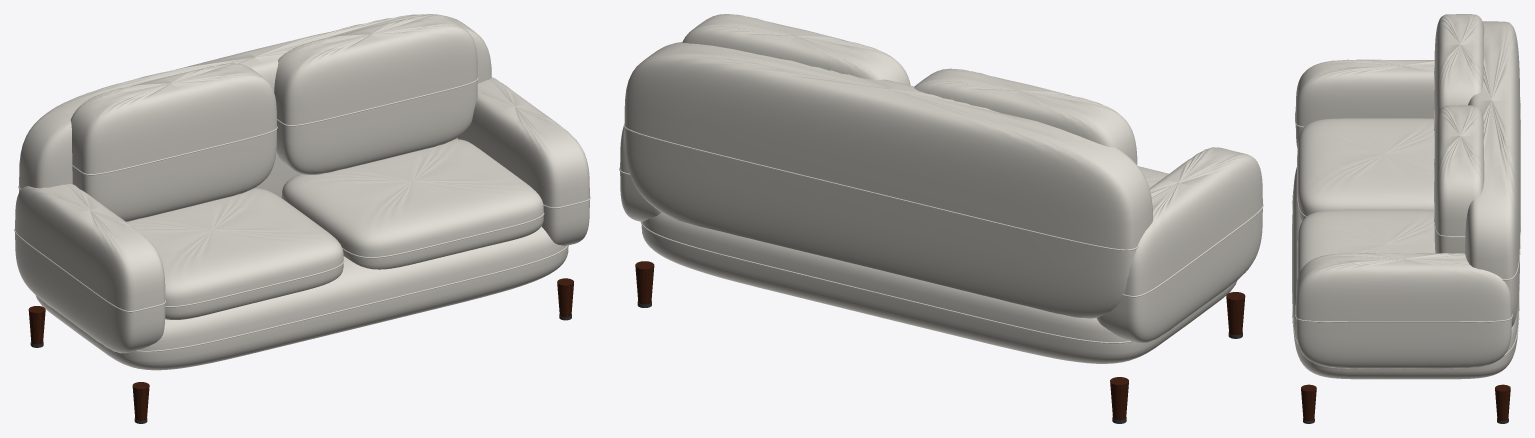
Rendered from detail-sofa.glb.
3 renders of one model, left to right at view 1: azimuth 30°, elevation 25°; view 2: azimuth 150°, elevation 25°; view 3: azimuth 270°, elevation 25°, orthographic. The views are drawn at different scales.
Visible parts, largest first — view 1: 松软背垫.001, 松软背垫, 独立坐垫.001, 沙发下框, 饱满扶手, 独立坐垫, 饱满扶手.001, 沙发靠背, 软包滚边接缝, 收分柜脚.002, 收分柜脚, 收分柜脚.001; view 2: 沙发靠背, 沙发下框, 饱满扶手, 松软背垫, 松软背垫.001, 饱满扶手.001, 软包滚边接缝.001, 软包滚边接缝, 收分柜脚.003, 收分柜脚.001, 收分柜脚; view 3: 饱满扶手.001, 独立坐垫, 沙发靠背, 饱满扶手, 松软背垫.001, 独立坐垫.001, 松软背垫, 沙发下框, 收分柜脚.002, 收分柜脚.003, 软包滚边接缝.003, 软包滚边接缝.
Boxes of the visible parts, x1,y1,x2,y2 form: 松软背垫.001: [274, 14, 477, 174]; 松软背垫: [70, 63, 276, 221]; 独立坐垫.001: [281, 139, 543, 269]; 沙发下框: [35, 226, 568, 370]; 饱满扶手: [15, 184, 165, 353]; 独立坐垫: [127, 188, 343, 319]; 饱满扶手.001: [458, 77, 589, 245]; 沙发靠背: [19, 14, 491, 197]; 软包滚边接缝: [135, 245, 568, 352]; 收分柜脚.002: [557, 278, 573, 317]; 收分柜脚: [132, 382, 149, 420]; 收分柜脚.001: [28, 306, 45, 344]; 沙发靠背: [624, 41, 1152, 318]; 沙发下框: [641, 212, 1237, 363]; 饱满扶手: [1096, 147, 1262, 343]; 松软背垫: [914, 68, 1137, 164]; 松软背垫.001: [682, 14, 910, 85]; 饱满扶手.001: [620, 126, 661, 221]; 软包滚边接缝.001: [623, 124, 1138, 250]; 软包滚边接缝: [641, 221, 1132, 343]; 收分柜脚.003: [635, 261, 654, 304]; 收分柜脚.001: [1110, 377, 1128, 420]; 收分柜脚: [1226, 292, 1245, 335]; 饱满扶手.001: [1295, 253, 1511, 368]; 独立坐垫: [1297, 118, 1434, 221]; 沙发靠背: [1465, 21, 1520, 326]; 饱满扶手: [1295, 59, 1434, 148]; 松软背垫.001: [1434, 105, 1484, 253]; 独立坐垫.001: [1297, 209, 1435, 277]; 松软背垫: [1434, 14, 1484, 141]; 沙发下框: [1292, 167, 1518, 379]; 收分柜脚.002: [1301, 384, 1316, 420]; 收分柜脚.003: [1495, 384, 1510, 420]; 软包滚边接缝.003: [1295, 305, 1512, 322]; 软包滚边接缝: [1292, 191, 1519, 356].
Size of the model in its own units: 2.06 by 1.04 by 0.92.
3 materials, 1 textured.
